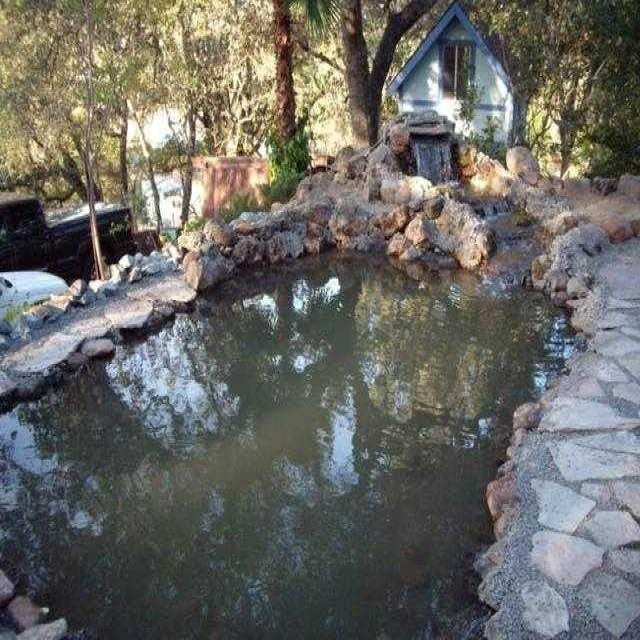Ponds: (1, 101, 640, 640)
